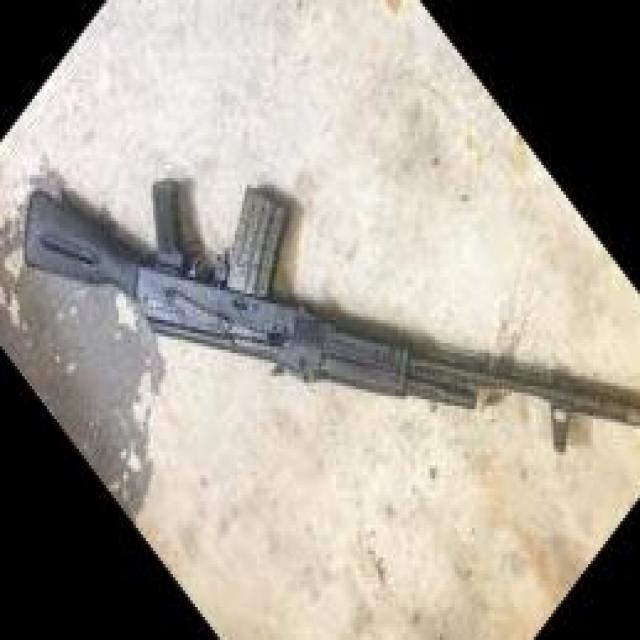weapon: (23, 176, 640, 455)
